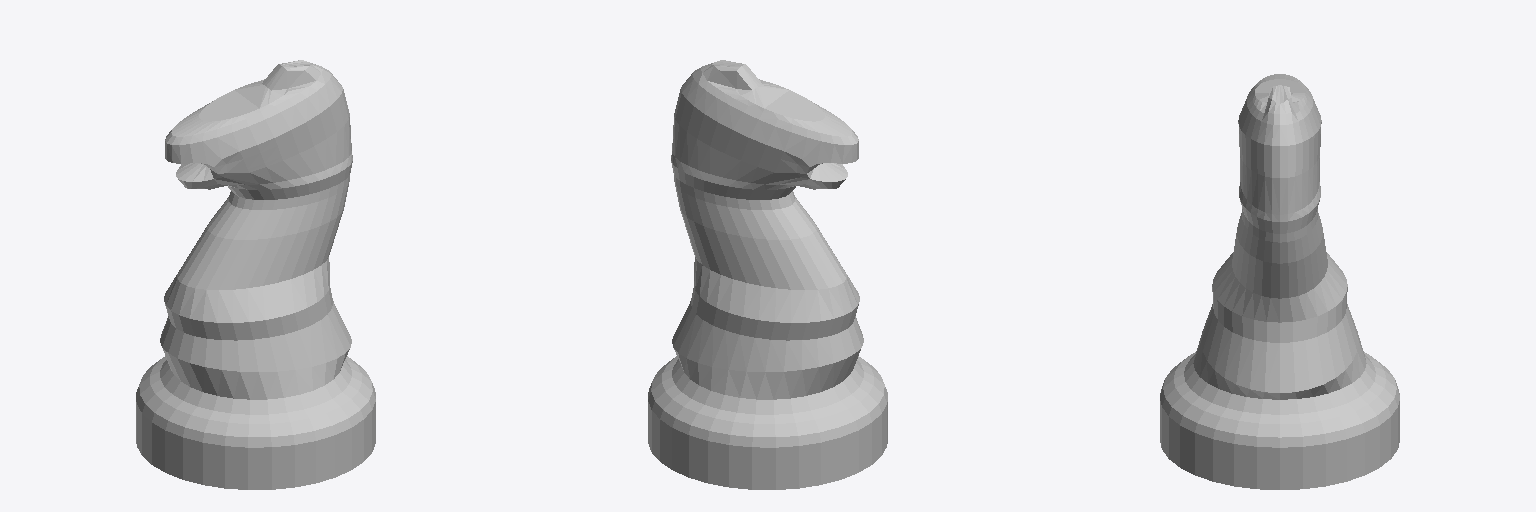
The model's file is knight.obj.
3 renders of one model, left to right at view 1: azimuth 30°, elevation 25°; view 2: azimuth 150°, elevation 25°; view 3: azimuth 270°, elevation 25°, orthographic.
Parts seen in each view (by area): view 1: knight; view 2: knight; view 3: knight.
Boxes of the visible parts, box(x1,y1,x2,y2) form: knight: box(136, 60, 375, 489); knight: box(648, 60, 887, 489); knight: box(1160, 74, 1399, 489).
Bounding box in the file's own units: 0.6951 × 1.17 × 0.6951.